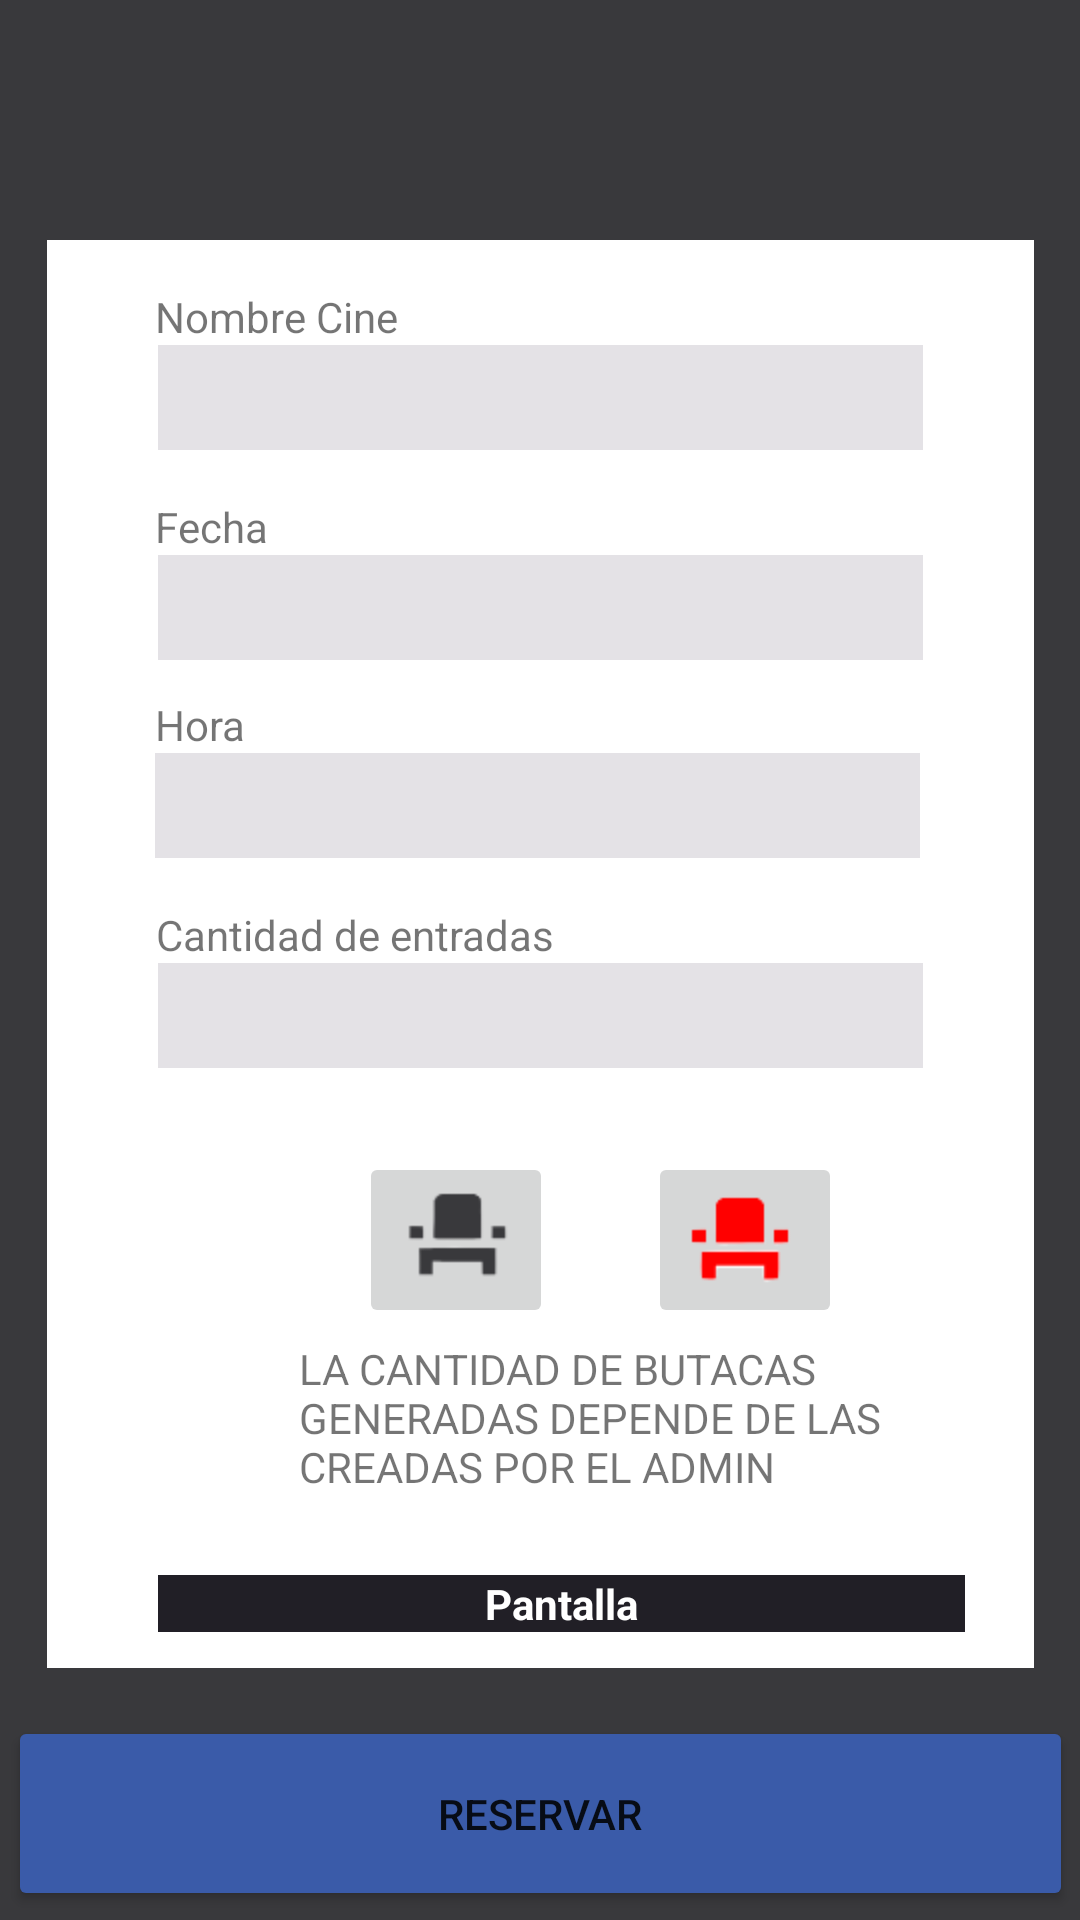

Where to tap for icons on this 1080*1920 app screen, as point (x, y):
butacanegra: point (456, 1240)
butacaroja: point (745, 1240)
